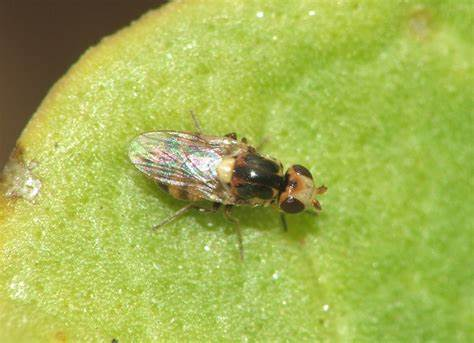Chloropidae: (126, 109, 330, 250)
